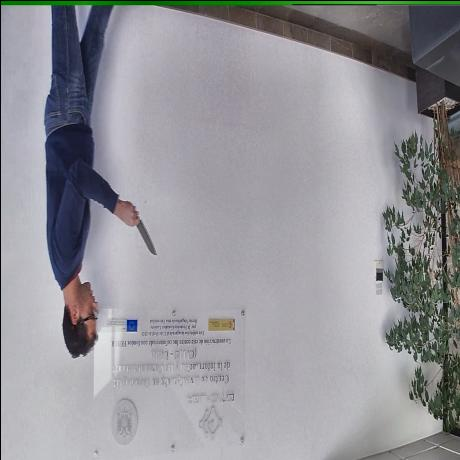1: (42, 0, 154, 360)
weapon: (124, 200, 157, 254)
